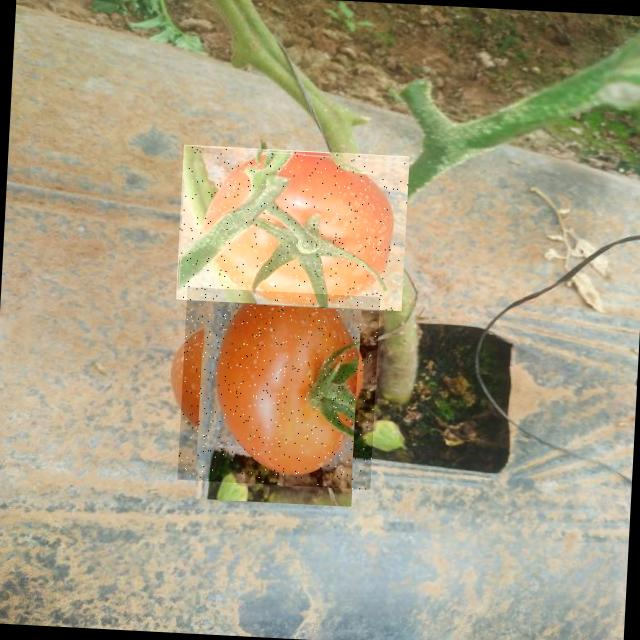Ripe Tomato: (178, 287, 380, 490), (176, 144, 410, 312)
